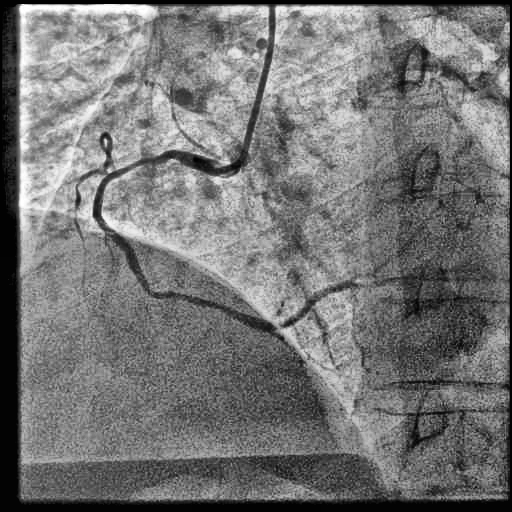pborca: (276, 281, 354, 329)
pda: (273, 332, 306, 370)
rca: (93, 150, 275, 332)
